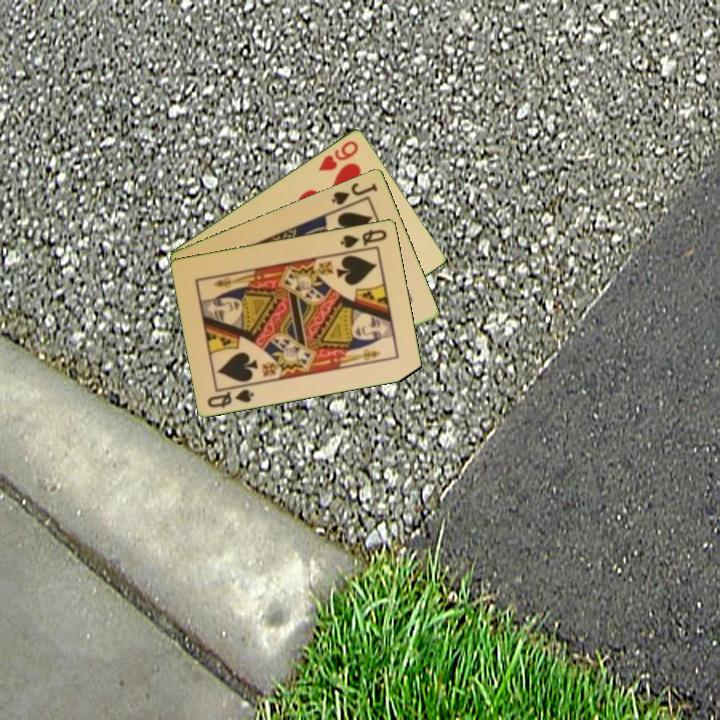9h: (315, 137, 362, 174)
Js: (328, 179, 381, 208)
Qs: (204, 381, 257, 411), (337, 226, 390, 251)
